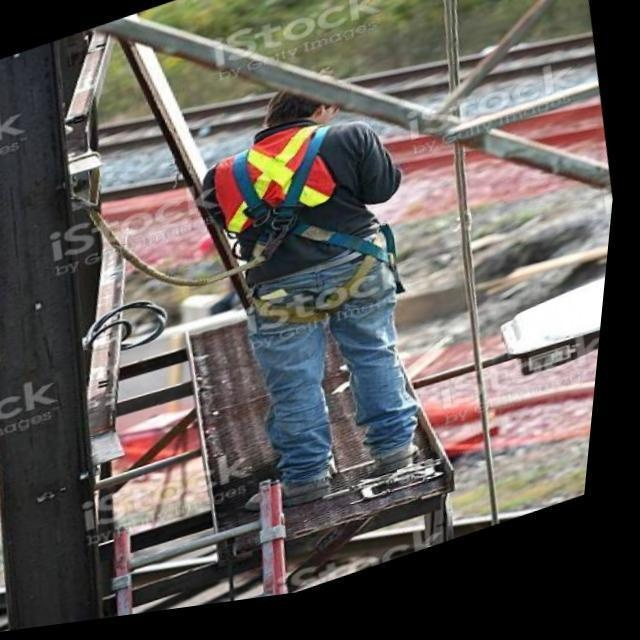Arnes_seguridad: (216, 126, 390, 314)
